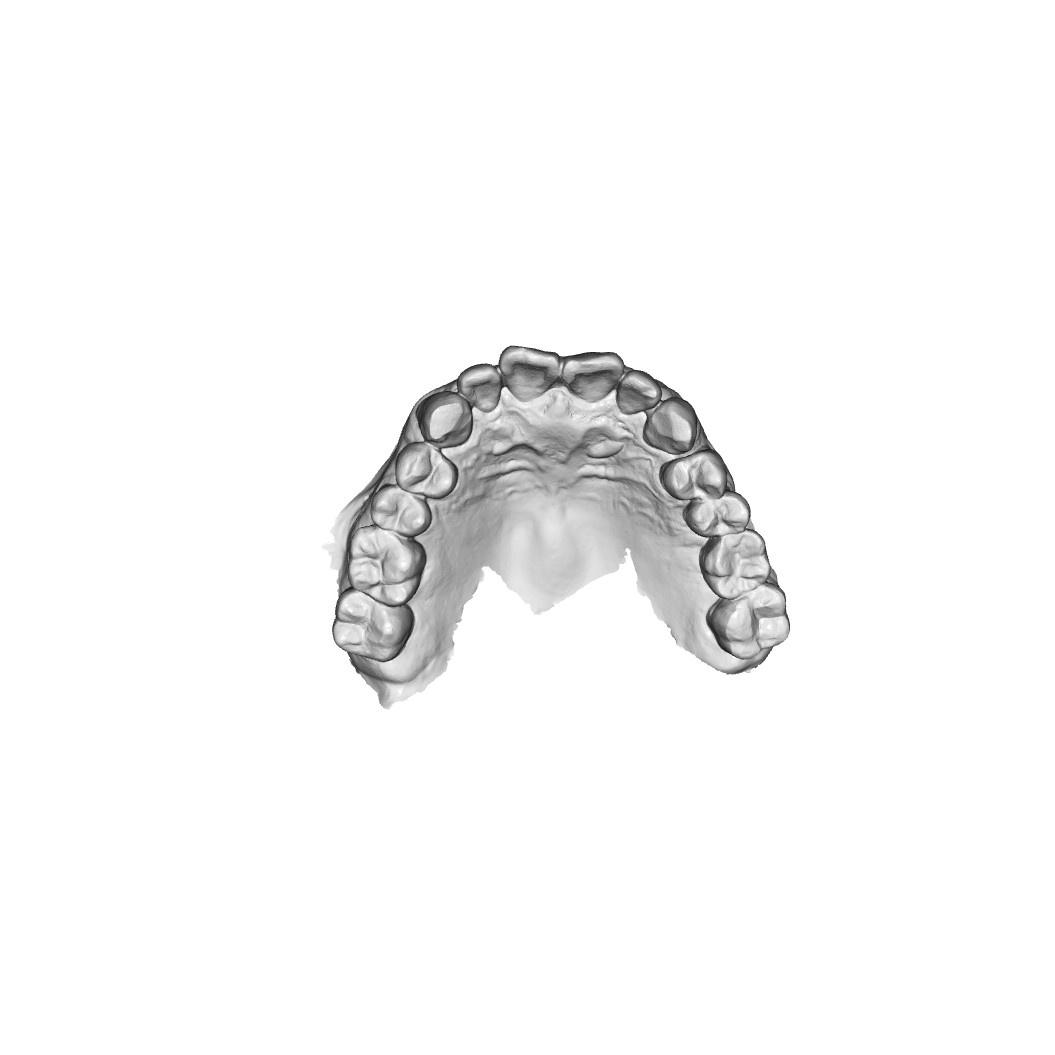canine: (416, 390, 474, 449), (642, 396, 699, 456)
incisor: (498, 344, 562, 403), (562, 350, 625, 403), (455, 362, 503, 414), (615, 368, 663, 416)
molar: (346, 523, 428, 609), (706, 580, 791, 660), (331, 585, 416, 663), (698, 528, 772, 600)
premolar: (394, 441, 460, 501), (660, 448, 728, 501), (369, 483, 434, 537), (683, 490, 751, 538)
